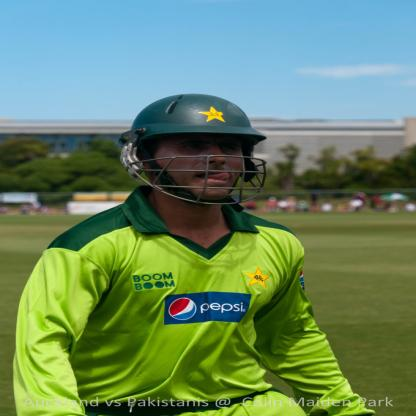Helmet: (116, 102, 266, 207)
